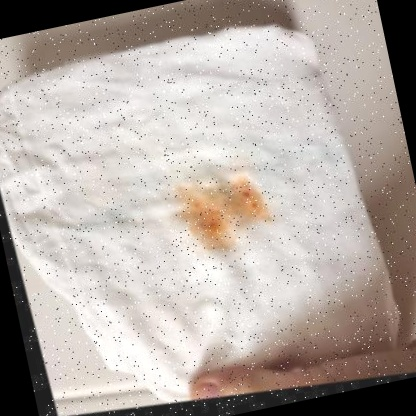kimchi: (173, 162, 277, 263)
